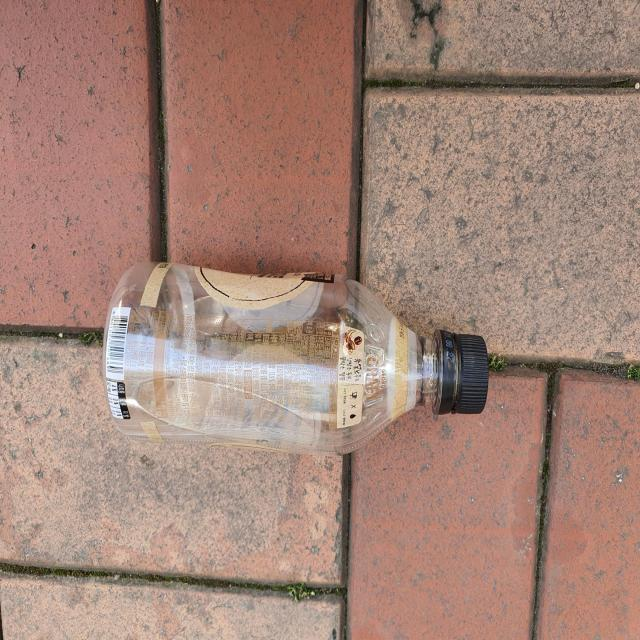plastic: (102, 262, 489, 454)
